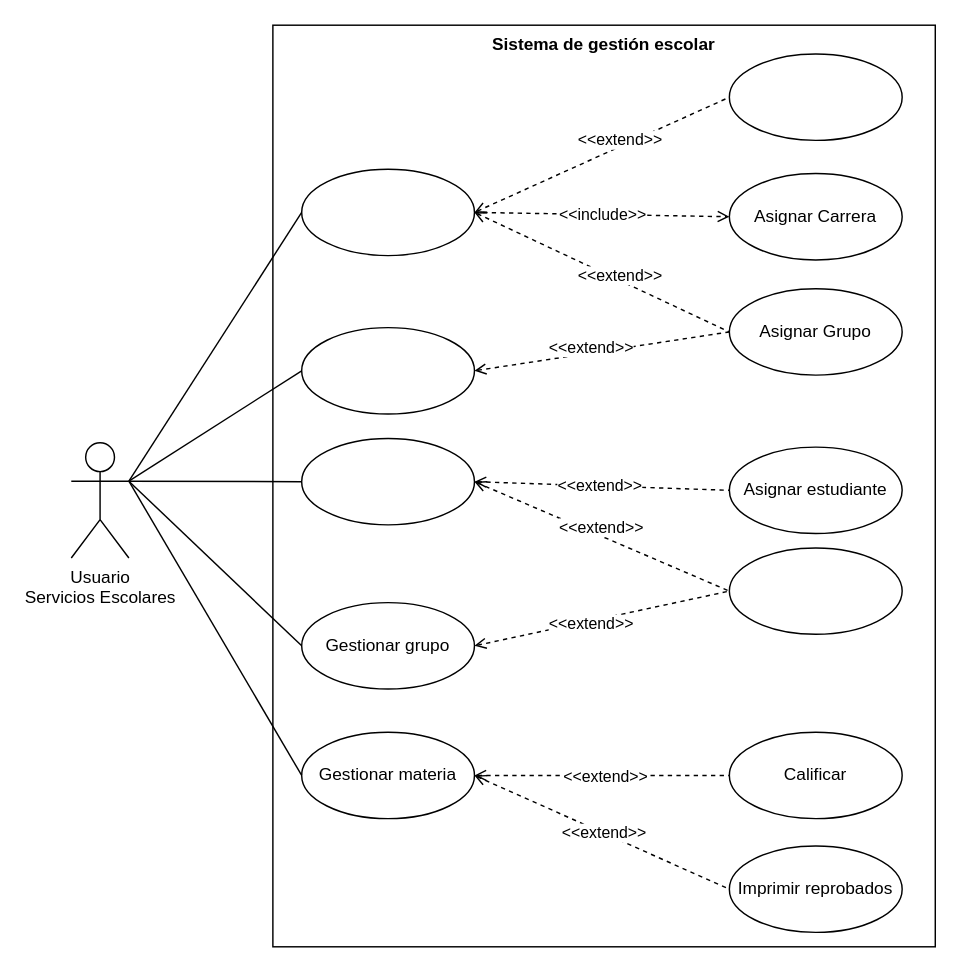
This 960x972 diagram has some shape labels left out. The centre of each missing label's shape, as x and y in pixels:
Asignar Materia: point 815,590
Gestionar carrera: point 387,370
Gestionar estudiante: point 387,212
Gestionar profesor: point 387,481
Imprimir reporte: point 815,96
